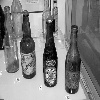beer: (43, 20, 63, 92)
